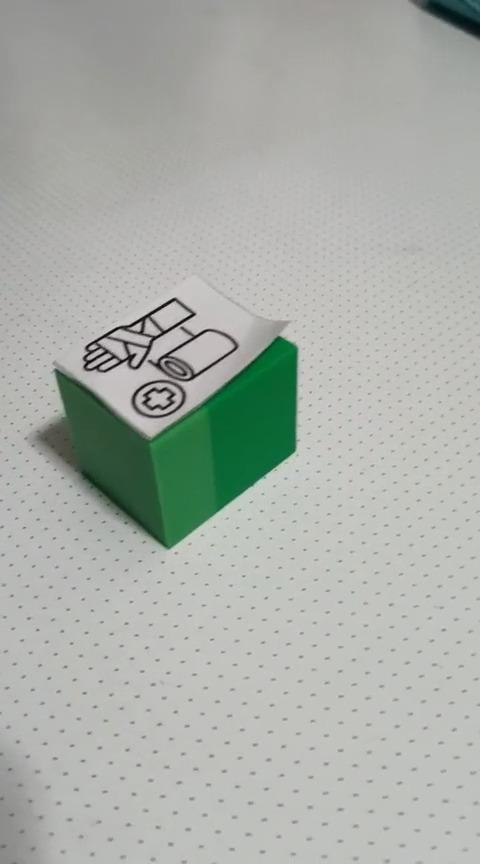Bandages: (51, 273, 299, 549)
